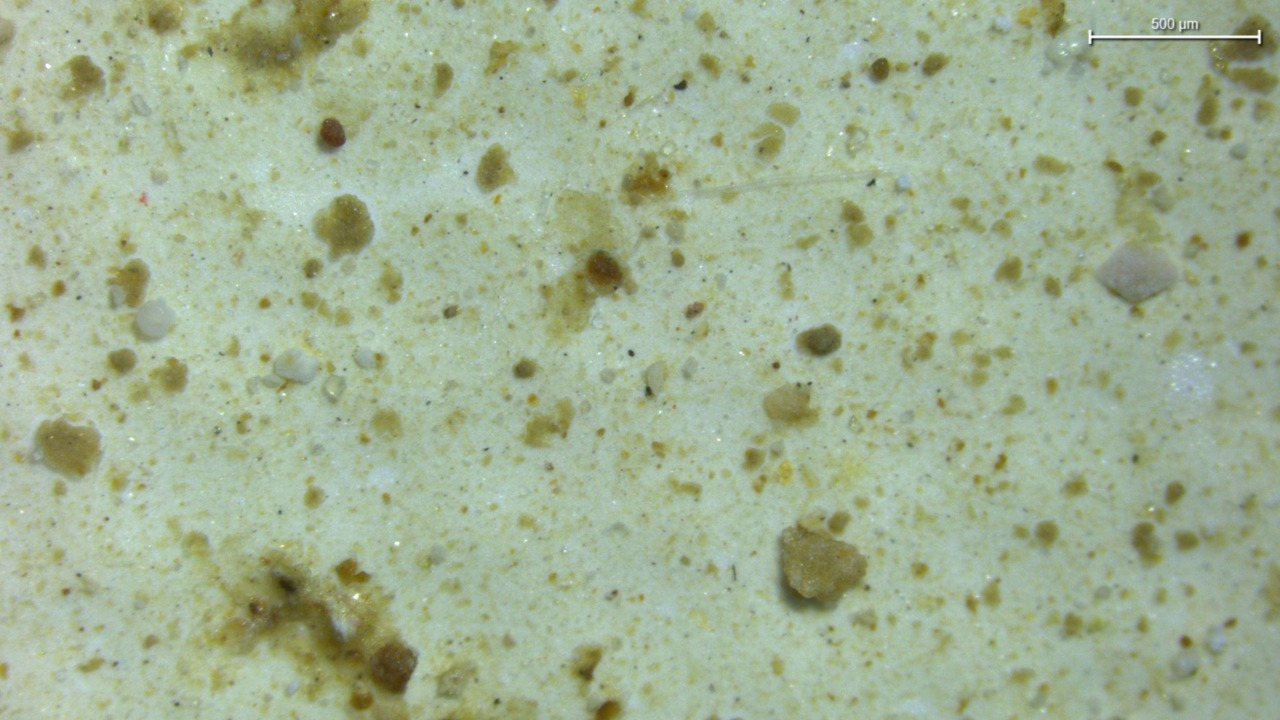microplastic_fragment: (780, 525, 867, 601), (1097, 244, 1179, 303), (135, 298, 176, 340), (273, 349, 318, 383)
